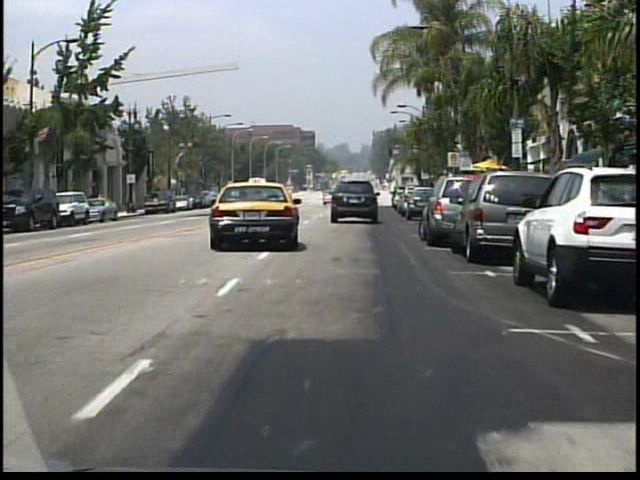person: (89, 187, 101, 215), (97, 189, 108, 215)
